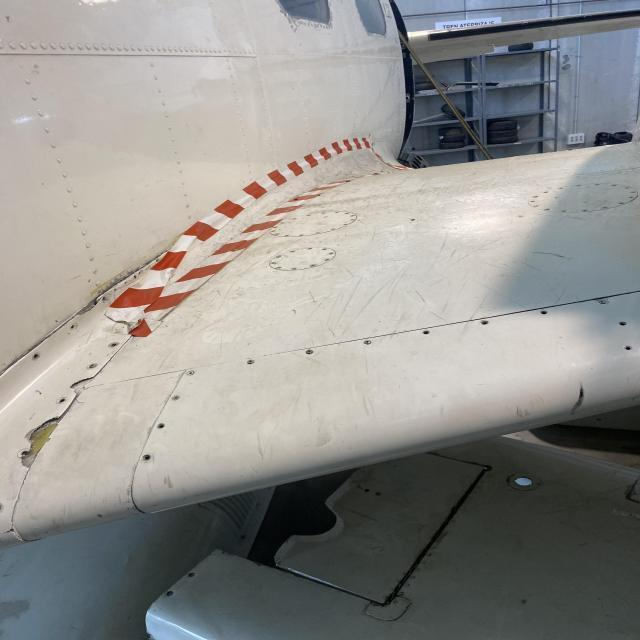Fastener Damage: (417, 327, 434, 337), (537, 308, 552, 316), (622, 344, 636, 352), (106, 342, 121, 349), (478, 318, 491, 326), (32, 350, 42, 360), (618, 318, 628, 328), (140, 453, 152, 461), (54, 397, 68, 403), (69, 324, 79, 332), (157, 422, 166, 430)
Rupture: (88, 242, 177, 302), (14, 413, 64, 475), (48, 277, 112, 322), (0, 522, 26, 537)
